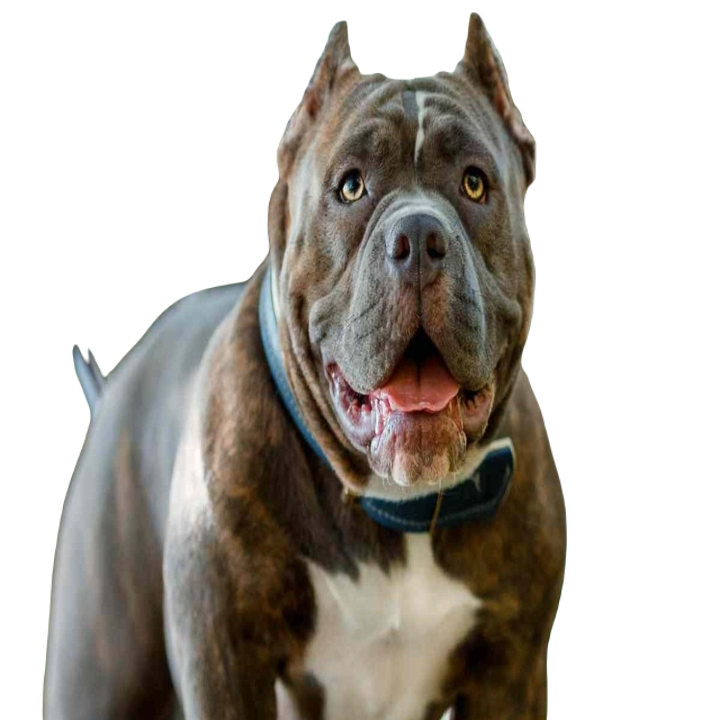Dog: (39, 14, 564, 717)
